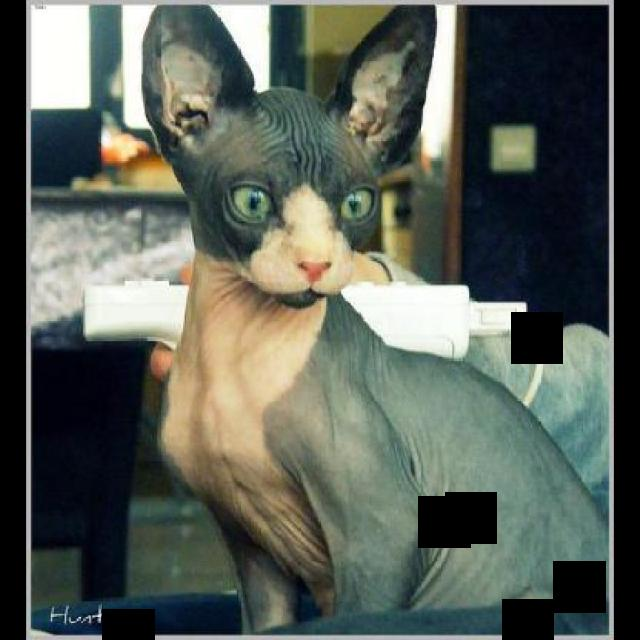unauthorized: (138, 3, 608, 632)
